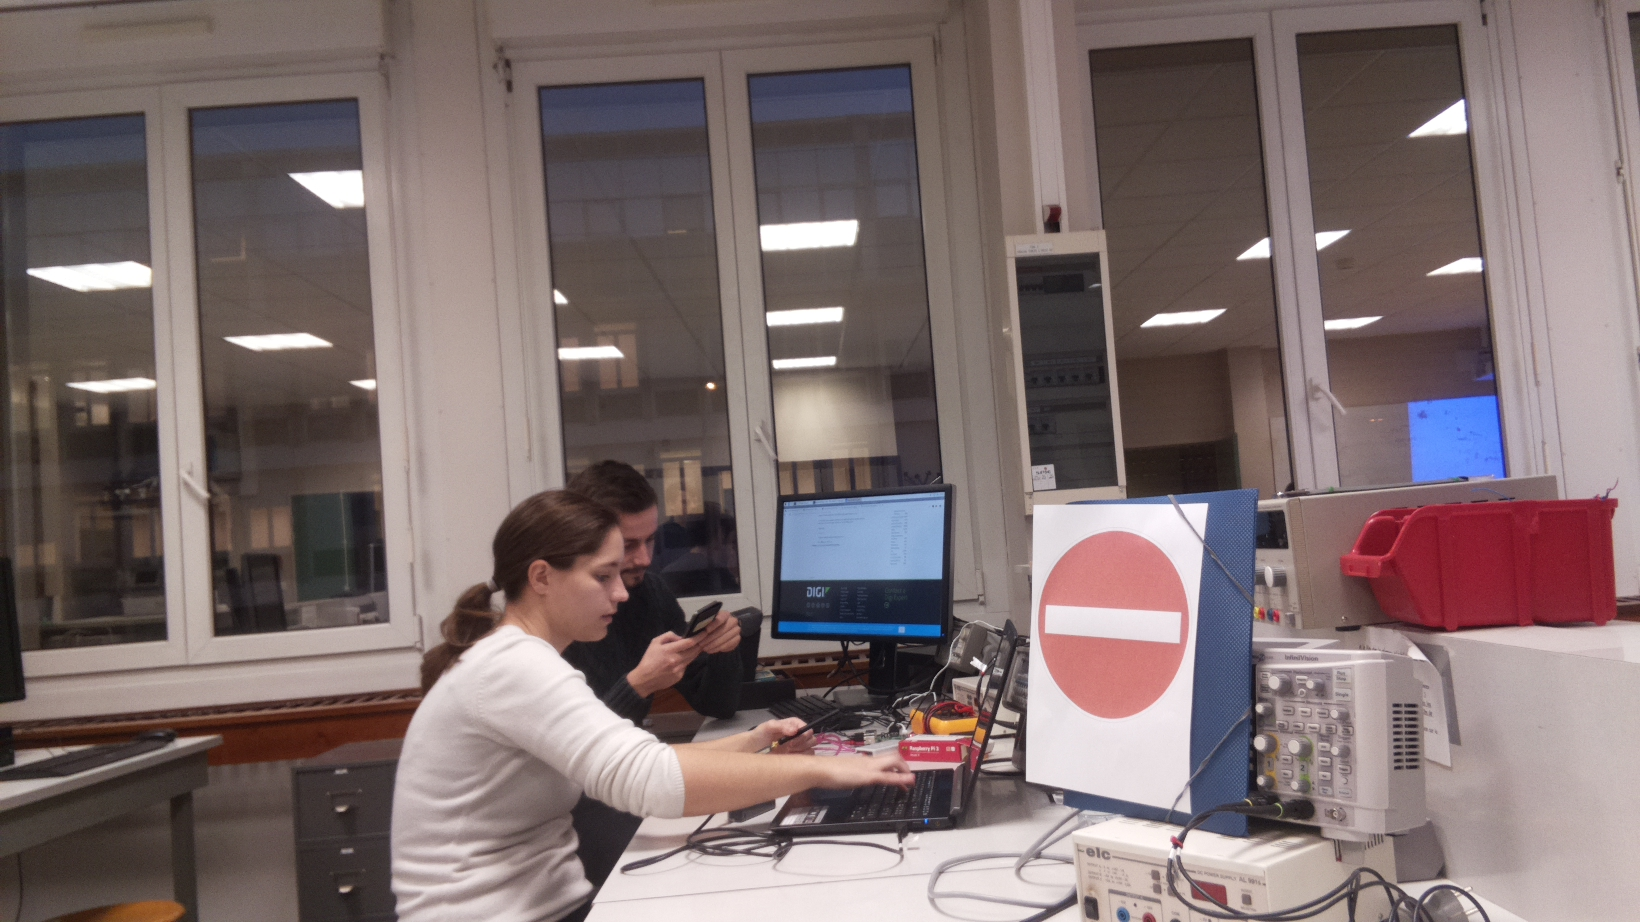prohibited: (1036, 527, 1191, 722)
